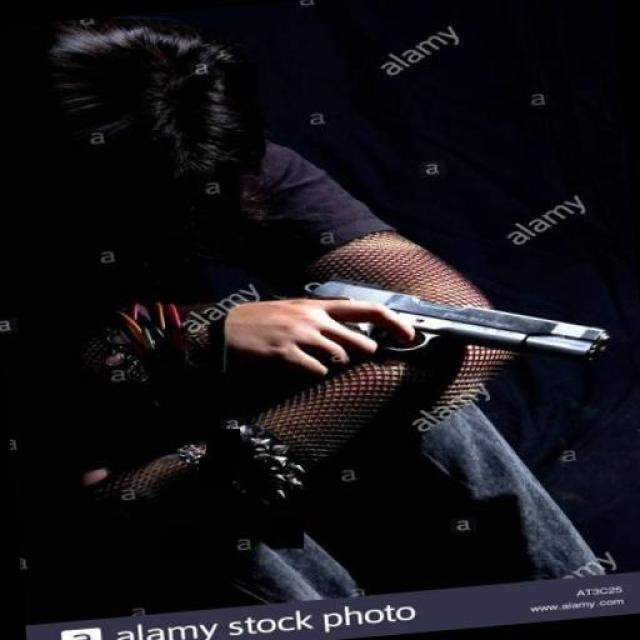gun: (248, 255, 614, 400)
